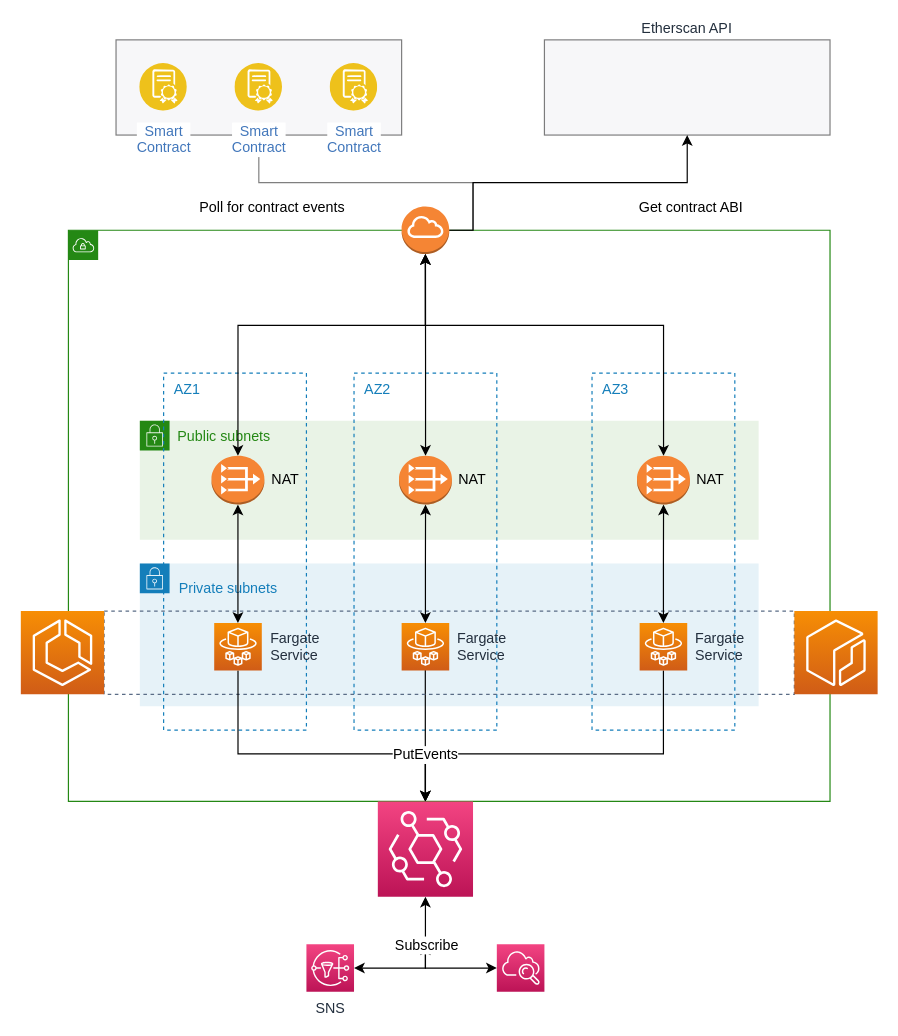
Image size: 898x1036. Some labels were removed from this diagram. Each missing label, with the box of its shape:
Cloudwatch: (496, 943, 544, 992)
ECR: (793, 610, 878, 694)
ECS Cluster: (20, 610, 104, 694)
Ethereum Network: (115, 39, 402, 135)
Eventbridge: (377, 800, 473, 897)
Internet Gateway: (400, 205, 449, 254)
VPC: (67, 229, 830, 801)
